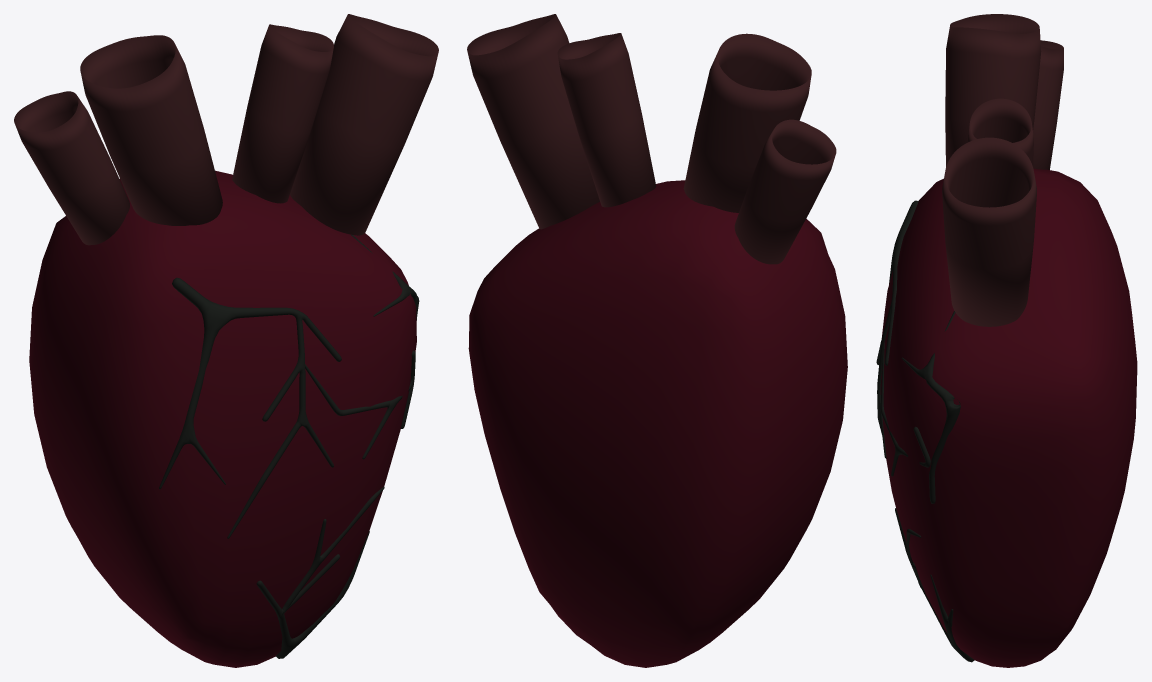
Rendered from Heart.glb.
The picture shows the model from 3 angles, left to right: view 1: azimuth 30°, elevation 25°; view 2: azimuth 150°, elevation 25°; view 3: azimuth 270°, elevation 25°; orthographic projection. The views are drawn at different scales.
Parts seen in each view (by area): view 1: Heart; view 2: Heart; view 3: Heart.
Part boxes in pixels (x1,y1,x2,y2): Heart: (14, 14, 438, 667); Heart: (467, 14, 847, 667); Heart: (876, 14, 1137, 667).
Size of the model in its own units: 2.44 by 3.86 by 1.53.
